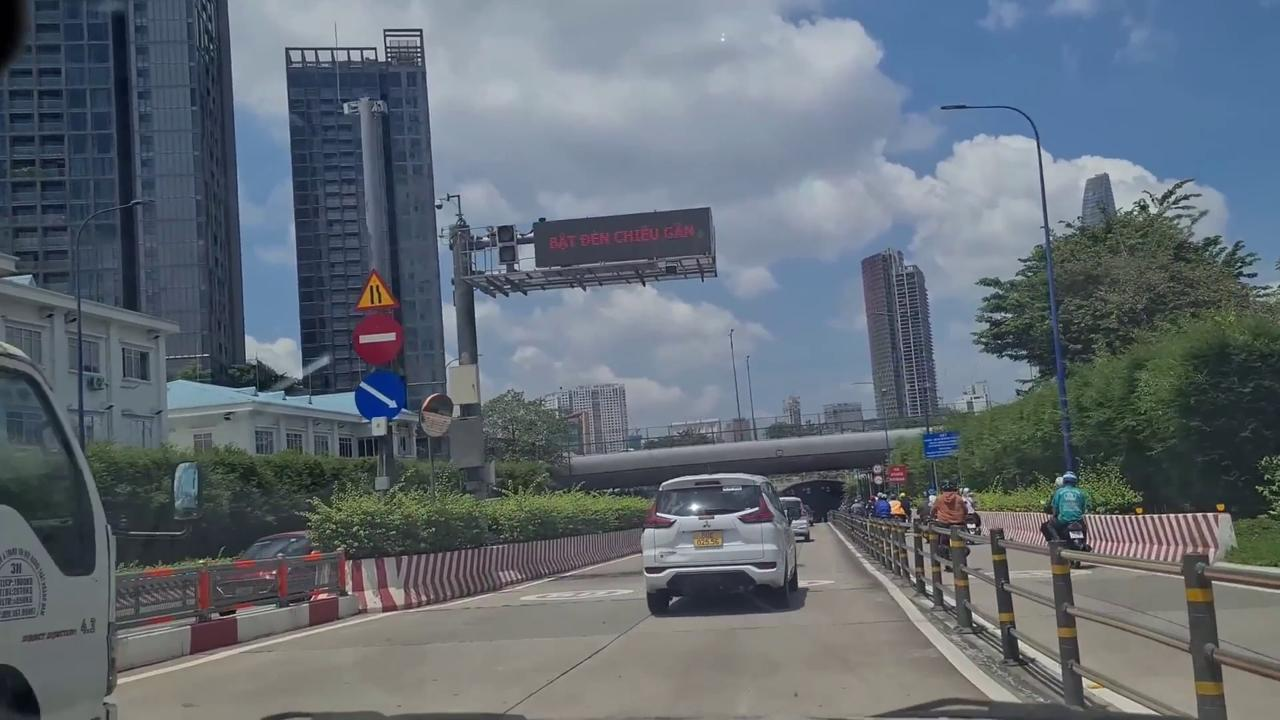Cấm đi ngược chiều: (352, 312, 405, 366)
Hướng phải đi vòng sang phải: (353, 370, 408, 420)
Đuờng hẹp: (353, 270, 401, 310)
